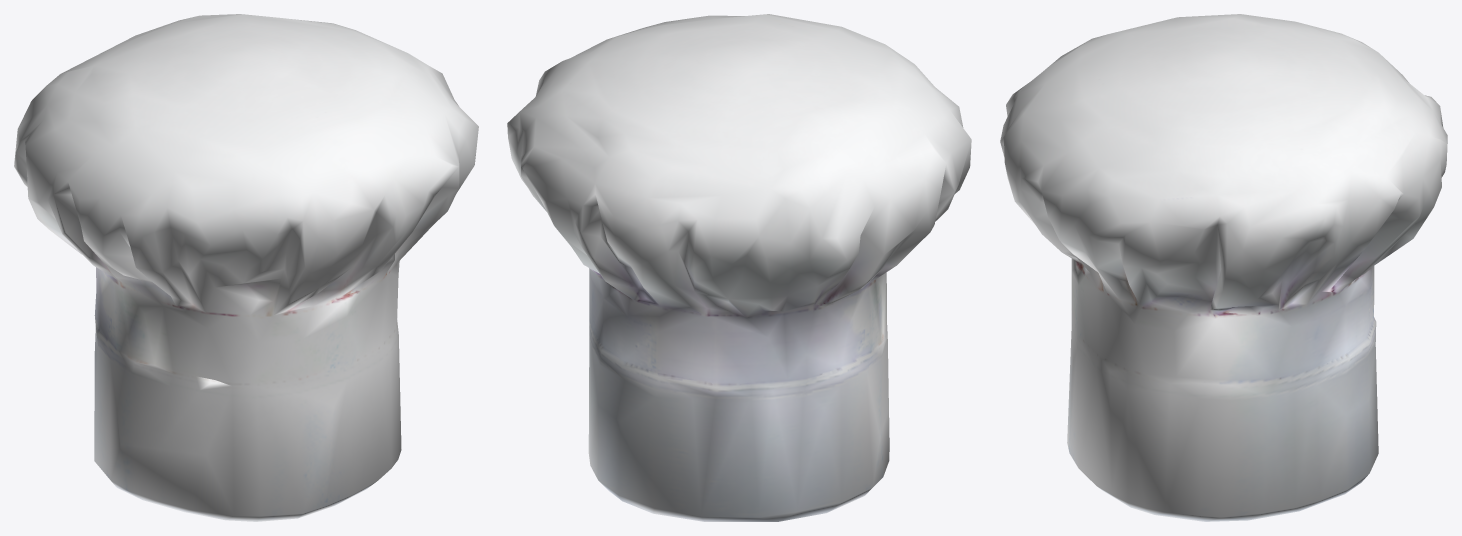
File: hat-chef.glb
The picture shows the model from 3 angles, left to right: view 1: azimuth 30°, elevation 25°; view 2: azimuth 150°, elevation 25°; view 3: azimuth 270°, elevation 25°; orthographic projection.
Visible parts, largest first — view 1: Body; view 2: Body; view 3: Body.
Boxes of the visible parts, x1=… form: Body: x1=14, y1=14, x2=478, y2=521; Body: x1=507, y1=14, x2=971, y2=521; Body: x1=1000, y1=14, x2=1447, y2=521.
Bounding box in the file's own units: 0.9633 × 0.9448 × 0.9488.
1 material, 1 textured.
